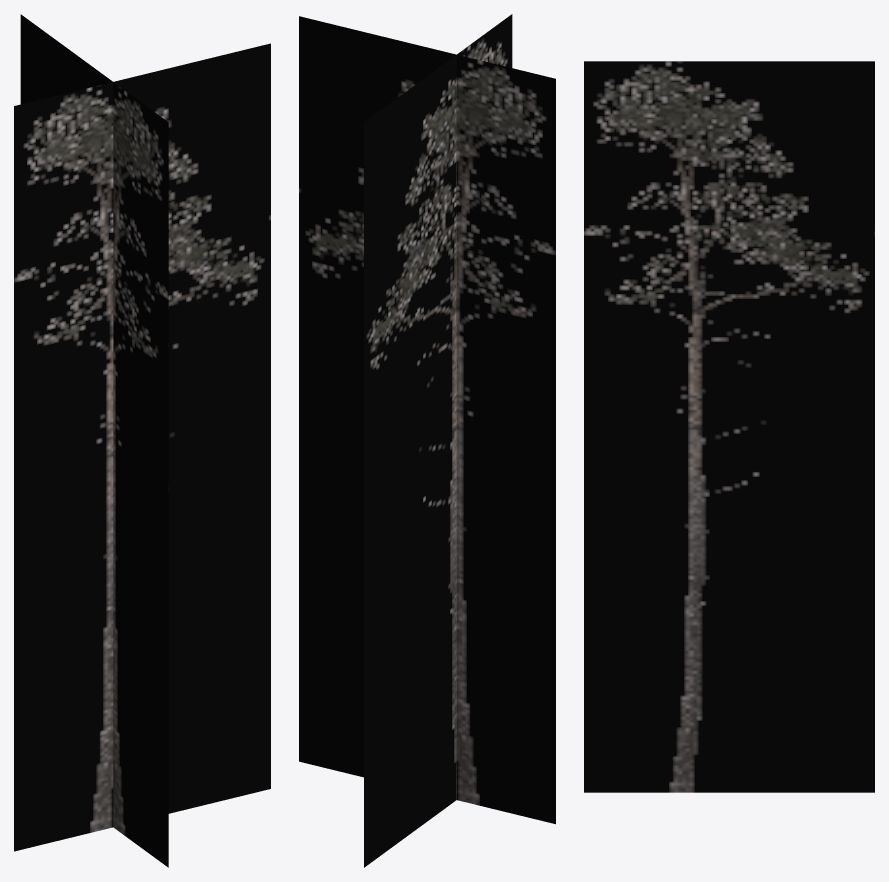
The model's file is Tree6.fbx.
3 views of the same model, side by side, from view 1: azimuth 30°, elevation 25°; view 2: azimuth 150°, elevation 25°; view 3: azimuth 270°, elevation 25° (orthographic).
Parts seen in each view (by area): view 1: Tree6; view 2: Tree6; view 3: Tree6.
Boxes of the visible parts, bbox=[...] form: Tree6: bbox=[14, 14, 270, 867]; Tree6: bbox=[299, 14, 555, 867]; Tree6: bbox=[584, 61, 874, 792].
Bounding box in the file's own units: 1814 × 5032 × 1814.
